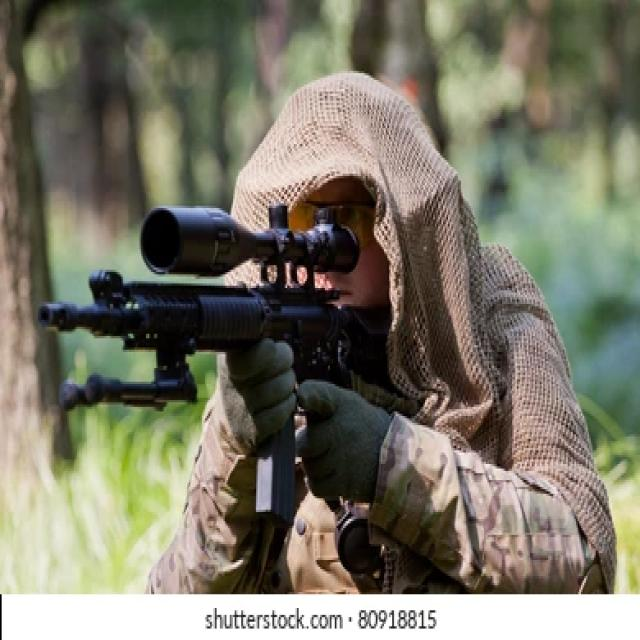soldier: (46, 86, 618, 593)
